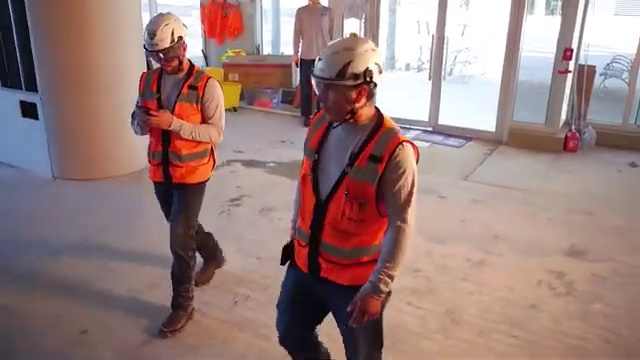helmet: (311, 34, 397, 88), (136, 9, 190, 48)
jacket: (301, 102, 413, 296), (131, 64, 224, 187)
